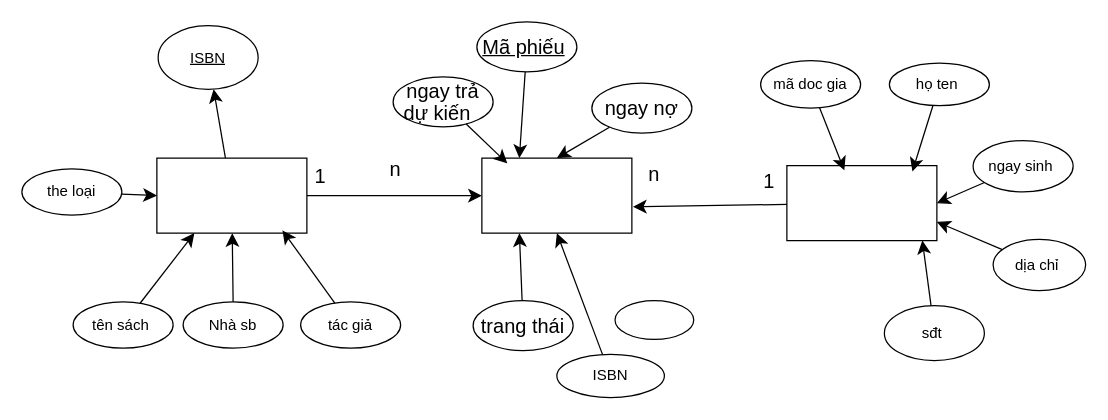
This 1108x420 diagram has some shape labels left out. The centre of each missing label's shape, as x and y in pixels:
mã đoc gia: the point at 654,319
Phiếu nợ: the point at 556,195
Sách: the point at 231,195
Độc giả: the point at 861,202
